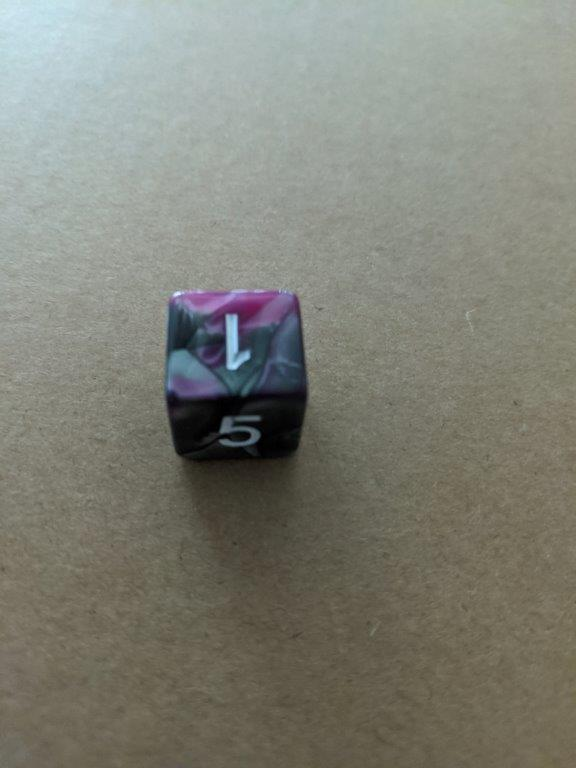d6-1: (157, 287, 306, 465)
